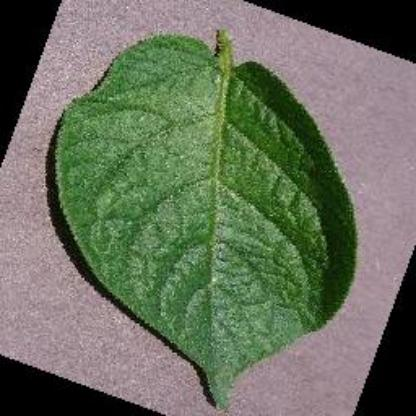Healthy-plant: (44, 20, 366, 410)
